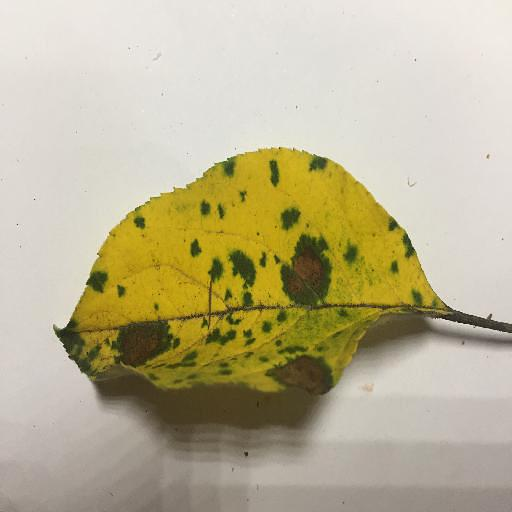Brown_Spot: (265, 351, 329, 395), (116, 318, 170, 365), (279, 243, 325, 297)
